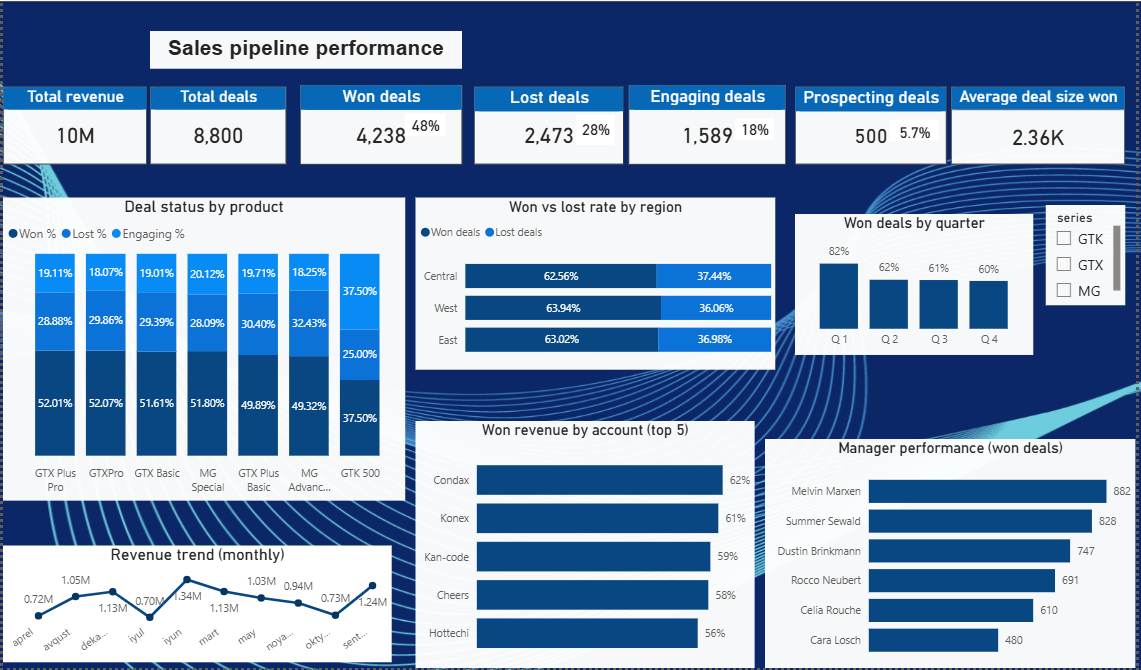

This screenshot's page, from the dashboard's own definition file:
{"tool":"powerbi","page":{"name":"Page 1","canvas":[1280,720],"ordinal":0},"visuals":[{"type":"card","title":"Won deals","fields":{"Values":["Measure.Won deals"]},"box":[335.7,61,183.1,89.9],"z":0},{"type":"card","title":"Engaging deals","fields":{"Values":["Measure.Engaging deals 2"]},"box":[707,61,178,89.9],"z":1000},{"type":"barChart","title":"Won revenue by account (top 5)","fields":{"Category":["accounts.account"],"Y":["Measure.Won %"]},"box":[466.3,440.8,383.2,279.8],"z":2000},{"type":"hundredPercentStackedColumnChart","title":"Deal status by product","fields":{"Y":["Measure.Won %","Measure.Lost %","Measure.Engaging %"],"Category":["sales_pipeline.product"]},"box":[0,188.2,454.4,342.5],"z":3000},{"type":"lineChart","title":"Revenue trend (monthly)","fields":{"Y":["Measure.Total revenue"],"Category":["Calendar table.Ayların adı"]},"box":[0,581.6,439.1,132.2],"z":4000},{"type":"columnChart","title":"Won deals by quarter","fields":{"Category":["Calendar table.Rübler"],"Y":["Measure.Won %"]},"box":[895.2,206.8,269.6,159.4],"z":5000},{"type":"slicer","fields":{"Values":["products.series"]},"box":[1178.4,196.7,89.9,113.6],"z":6000},{"type":"hundredPercentStackedBarChart","title":"Won vs lost rate by region","fields":{"Category":["sales_teams.regional_office"],"Y":["Measure.Won deals","Measure.Lost deals"]},"box":[466.3,188.2,406.9,195],"z":7000},{"type":"card","fields":{"Values":["Measure.Won %"]},"box":[454.4,93.3,45.8,25.4],"z":8000},{"type":"card","fields":{"Values":["Measure.Engaging %"]},"box":[827.4,98.3,44.1,25.4],"z":9000},{"type":"card","title":"Average deal size won","fields":{"Values":["Measure.Average deal size won"]},"box":[1071.5,62.7,196.7,88.2],"z":10000},{"type":"clusteredBarChart","title":"Manager performance (won deals)","fields":{"Category":["sales_teams.manager"],"Y":["Measure.Won deals"]},"box":[861.3,461.2,418.8,259.4],"z":11000},{"type":"textbox","box":[166.2,0,352.7,42.4],"z":12000},{"type":"card","title":"Prospecting deals","fields":{"Values":["Measure.Prospecting deals"]},"box":[895.2,62.7,171.2,88.2],"z":13000},{"type":"card","fields":{"Values":["Measure.Prospecting %"]},"box":[1002,100,56,23.7],"z":14000},{"type":"card","title":"Total revenue","fields":{"Values":["Measure.Total revenue"]},"box":[0,62.7,162.8,88.2],"z":15000},{"type":"card","title":"Total deals","fields":{"Values":["Measure.Total deals"]},"box":[166.2,62.7,154.3,88.2],"z":16000},{"type":"card","title":"Lost deals","fields":{"Values":["Measure.Lost deals"]},"box":[532.4,62.7,169.5,88.2],"z":17000},{"type":"card","fields":{"Values":["Measure.Lost %"]},"box":[647.7,94.9,44.1,33.9],"z":18000}]}

Visuals, with their boxes in screenshot pixels (x1, y1, x2, y2):
"Won deals" card: 295/83/456/162
"Engaging deals" card: 622/83/778/162
"Won revenue by account (top 5)" barChart: 410/417/747/663
"Deal status by product" hundredPercentStackedColumnChart: 0/195/399/496
"Revenue trend (monthly)" lineChart: 0/541/386/657
"Won deals by quarter" columnChart: 787/212/1024/352
slicer - products.series: 1036/203/1115/302
"Won vs lost rate by region" hundredPercentStackedBarChart: 410/195/768/367
card - Measure.Won %: 399/112/440/134
card - Measure.Engaging %: 727/116/766/138
"Average deal size won" card: 942/85/1115/162
"Manager performance (won deals)" clusteredBarChart: 757/435/1125/663
textbox: 146/30/456/67
"Prospecting deals" card: 787/85/937/162
card - Measure.Prospecting %: 881/118/930/138
"Total revenue" card: 0/85/143/162
"Total deals" card: 146/85/282/162
"Lost deals" card: 468/85/617/162
card - Measure.Lost %: 569/113/608/143
